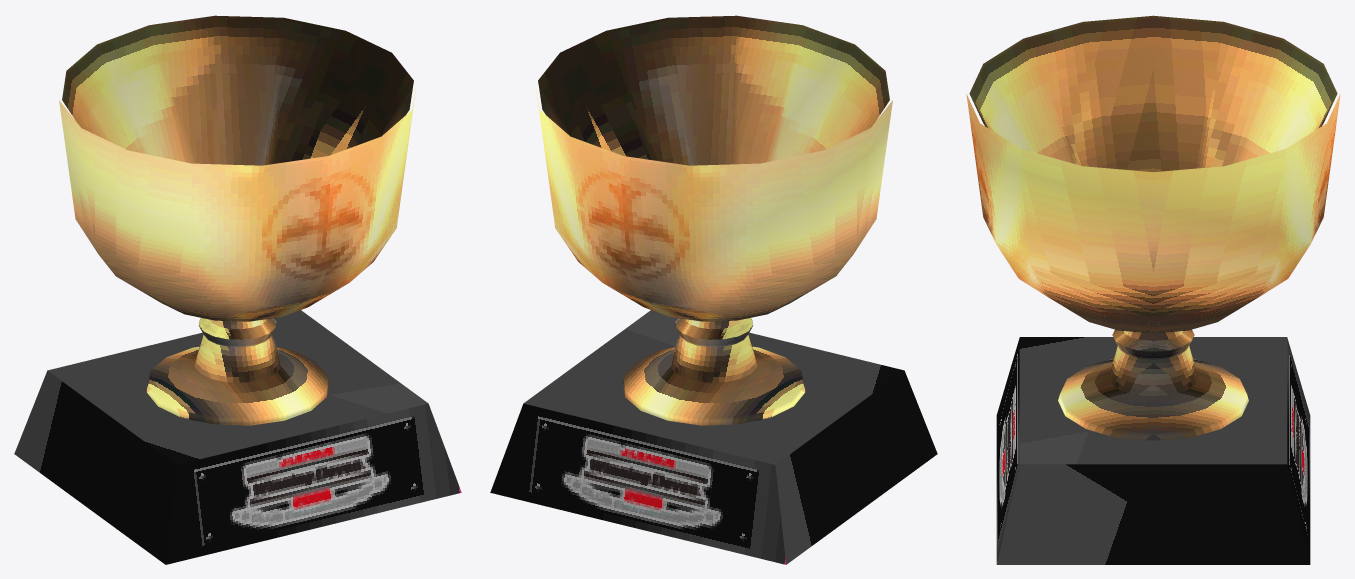
Rendered from ps2_save-icons_jleaguewinningeleven2008clubchampionship.glb.
The picture shows the model from 3 angles, left to right: view 1: azimuth 30°, elevation 25°; view 2: azimuth 150°, elevation 25°; view 3: azimuth 270°, elevation 25°; orthographic projection. The views are drawn at different scales.
Visible parts, largest first — view 1: icon_view; view 2: icon_view; view 3: icon_view.
Part boxes in pixels (x1,y1,x2,y2): icon_view: [14, 15, 461, 564]; icon_view: [490, 15, 937, 564]; icon_view: [966, 15, 1340, 564].
Size of the model in its own units: 4.17 by 4.88 by 4.17.
1 material, 1 textured.
